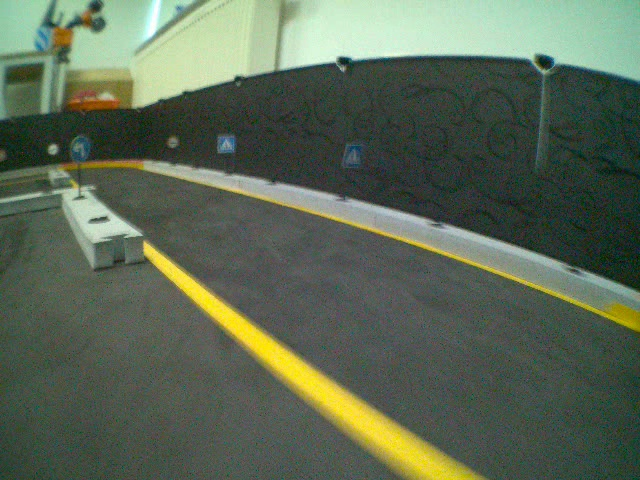crossing: (216, 134, 235, 153)
turn: (70, 133, 90, 161)
